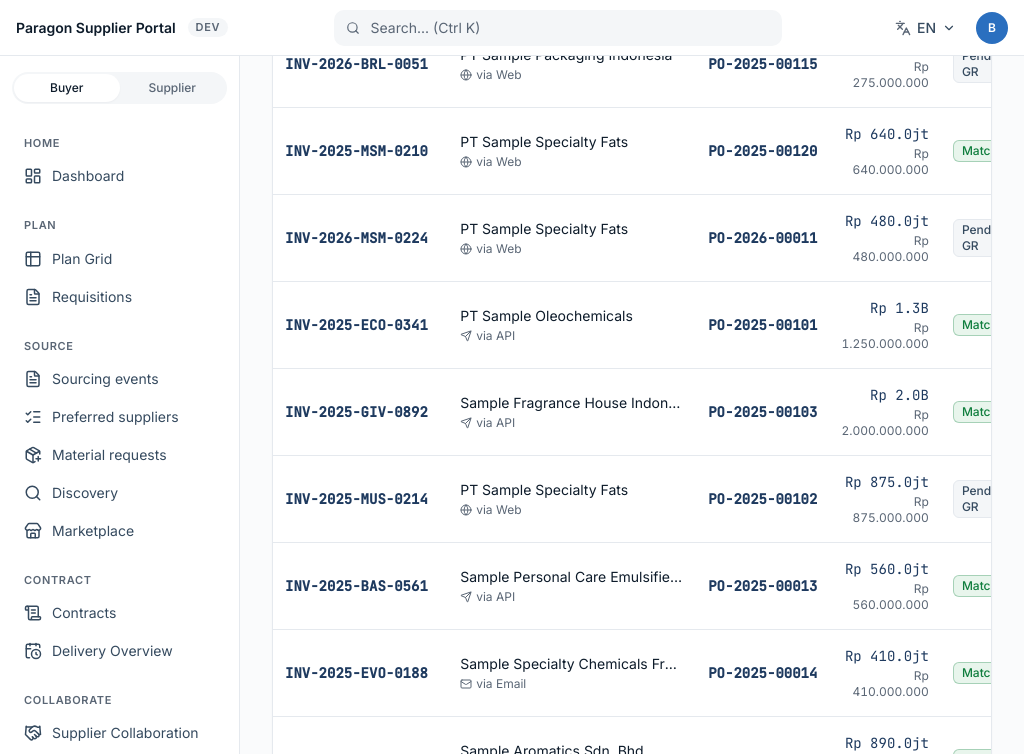
⚠️ A PROCUREMENT SEAT SEES THE WAIT, NOT A GAP › the release button is ABSENT and "Awaiting Finance" is PRESENT
(page scrolled)
Step 1. Click the text "INV-2025-GIV-0892" → (361, 412), box left=285, top=402, right=436, bottom=422
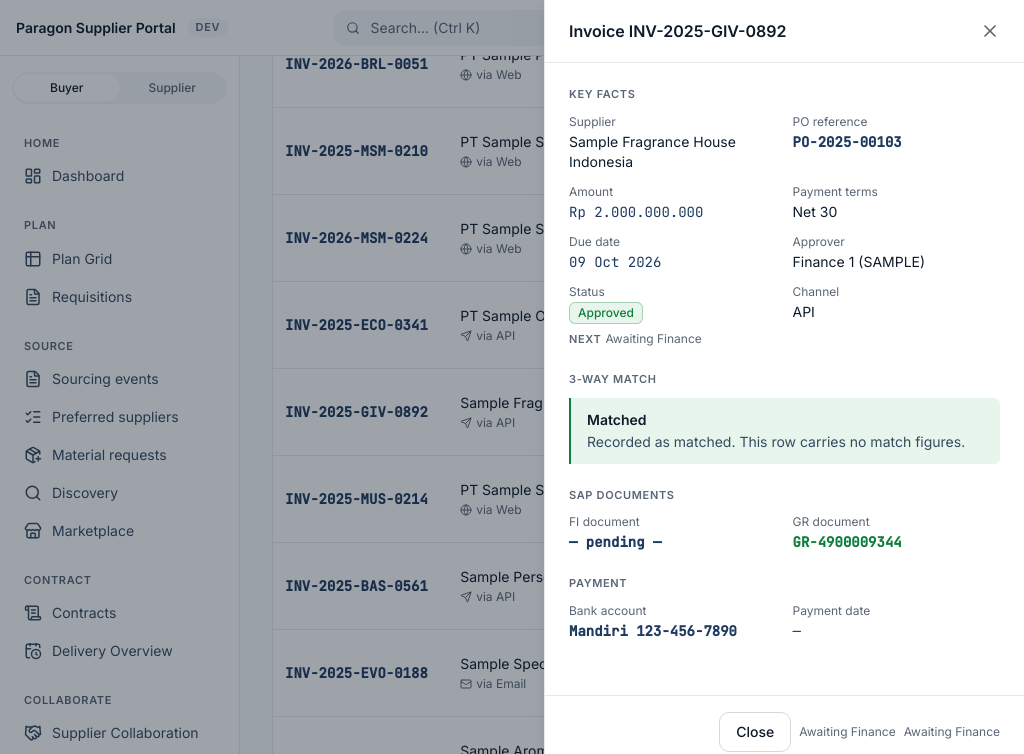
Now the text with test id "handoff-commit" reads "Awaiting Finance", box left=904, top=724, right=1000, bottom=739
